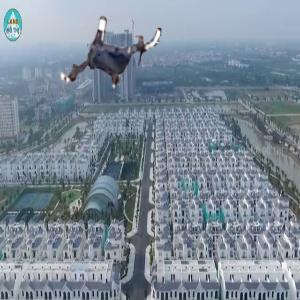drone: (57, 2, 166, 111)
